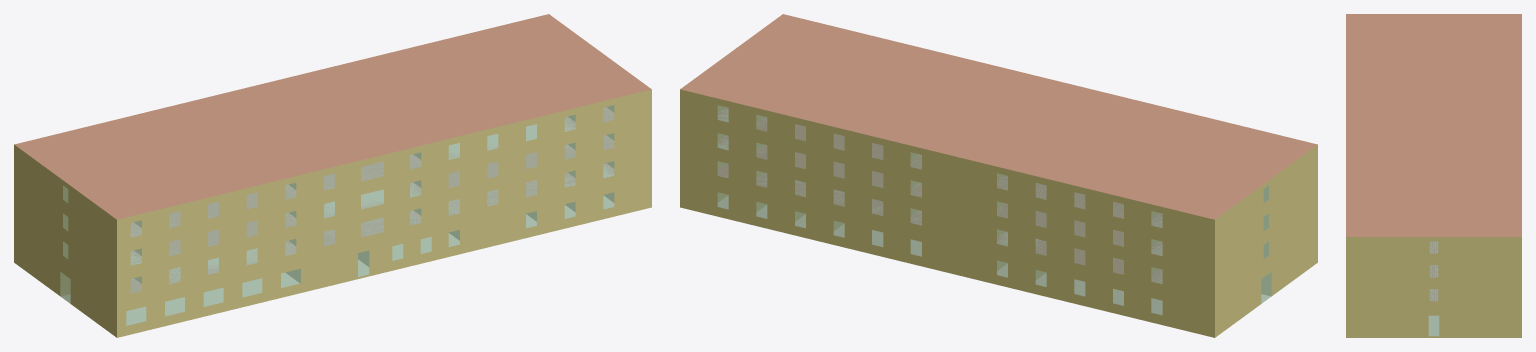
Rendered from Sample_DOE-RefBldgSmallHotelNew2004_Chicago.gltf.
The picture shows the model from 3 angles, left to right: view 1: azimuth 30°, elevation 25°; view 2: azimuth 150°, elevation 25°; view 3: azimuth 270°, elevation 25°; orthographic projection. The views are drawn at different scales.
Visible parts, largest first — view 1: R_GuestRoom415_418_1_0_0, R_GuestRoom420_423_1_0_0, R_GuestRoom409_412_1_0_0, R_GuestRoom402_405_1_0_0, R_CorridorFlr4_1_0_0, R_GuestRoom406_408_1_0_0, W_FrontLoungeFlr1_5_0_0, W_GuestRoom402_405_5_0_0, W_GuestRoom302_305_5_0_0, W_GuestRoom202_205_5_0_0, W_GuestRoom209_212_5_0_0, W_GuestRoom309_312_5_0_0 (+46 smaller); view 2: R_GuestRoom409_412_1_0_0, R_GuestRoom420_423_1_0_0, R_GuestRoom402_405_1_0_0, R_GuestRoom415_418_1_0_0, R_CorridorFlr4_1_0_0, R_GuestRoom406_408_1_0_0, W_FrontOfficeFlr1_3_0_0, W_GuestRoom215_218_3_0_0, W_GuestRoom315_318_3_0_0, W_GuestRoom220_223_3_0_0, W_GuestRoom420_423_3_0_0, W_GuestRoom320_323_3_0_0 (+55 smaller); view 3: R_GuestRoom420_423_1_0_0, R_GuestRoom402_405_1_0_0, R_GuestRoom415_418_1_0_0, R_GuestRoom409_412_1_0_0, R_CorridorFlr4_1_0_0, R_GuestRoom406_408_1_0_0, W_RearStorageFlr1_2_0_0, W_RearStairsFlr1_2_0_0, W_RearStorageFlr2_2_0_0, W_RearStairsFlr2_2_0_0, W_RearStorageFlr3_2_0_0, W_RearStairsFlr3_2_0_0 (+18 smaller).
Boxes of the visible parts, <box> form: R_GuestRoom415_418_1_0_0: <box>332,29,532,100</box>; R_GuestRoom420_423_1_0_0: <box>92,88,291,159</box>; R_GuestRoom409_412_1_0_0: <box>389,70,588,141</box>; R_GuestRoom402_405_1_0_0: <box>109,139,309,210</box>; R_CorridorFlr4_1_0_0: <box>61,48,605,185</box>; R_GuestRoom406_408_1_0_0: <box>264,108,434,172</box>; W_FrontLoungeFlr1_5_0_0: <box>117,257,310,337</box>; W_GuestRoom402_405_5_0_0: <box>155,173,310,238</box>; W_GuestRoom302_305_5_0_0: <box>155,201,310,266</box>; W_GuestRoom202_205_5_0_0: <box>155,229,310,294</box>; W_GuestRoom209_212_5_0_0: <box>435,160,589,225</box>; W_GuestRoom309_312_5_0_0: <box>435,132,589,197</box>; R_GuestRoom409_412_1_0_0: <box>799,29,999,100</box>; R_GuestRoom420_423_1_0_0: <box>983,129,1183,200</box>; R_GuestRoom402_405_1_0_0: <box>1079,97,1278,168</box>; R_GuestRoom415_418_1_0_0: <box>743,70,942,141</box>; R_CorridorFlr4_1_0_0: <box>726,48,1270,185</box>; R_GuestRoom406_408_1_0_0: <box>954,67,1124,131</box>; W_FrontOfficeFlr1_3_0_0: <box>1021,257,1176,328</box>; W_GuestRoom215_218_3_0_0: <box>742,160,896,225</box>; W_GuestRoom315_318_3_0_0: <box>742,132,896,197</box>; W_GuestRoom220_223_3_0_0: <box>983,219,1137,284</box>; W_GuestRoom420_423_3_0_0: <box>983,163,1137,228</box>; W_GuestRoom320_323_3_0_0: <box>983,191,1137,256</box>; R_GuestRoom420_423_1_0_0: <box>1442,46,1521,110</box>; R_GuestRoom402_405_1_0_0: <box>1346,30,1425,94</box>; R_GuestRoom415_418_1_0_0: <box>1442,146,1521,210</box>; R_GuestRoom409_412_1_0_0: <box>1346,146,1425,210</box>; R_CorridorFlr4_1_0_0: <box>1425,14,1521,236</box>; R_GuestRoom406_408_1_0_0: <box>1346,94,1425,146</box>; W_RearStorageFlr1_2_0_0: <box>1346,308,1425,337</box>; W_RearStairsFlr1_2_0_0: <box>1442,308,1521,337</box>; W_RearStorageFlr2_2_0_0: <box>1346,285,1425,308</box>; W_RearStairsFlr2_2_0_0: <box>1442,285,1521,308</box>; W_RearStorageFlr3_2_0_0: <box>1346,261,1425,284</box>; W_RearStairsFlr3_2_0_0: <box>1442,261,1521,284</box>.
Bounding box in the file's own units: 54.86 × 11.58 × 18.29.
